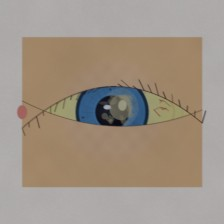corneal_ulcer: (100, 91, 141, 124)
